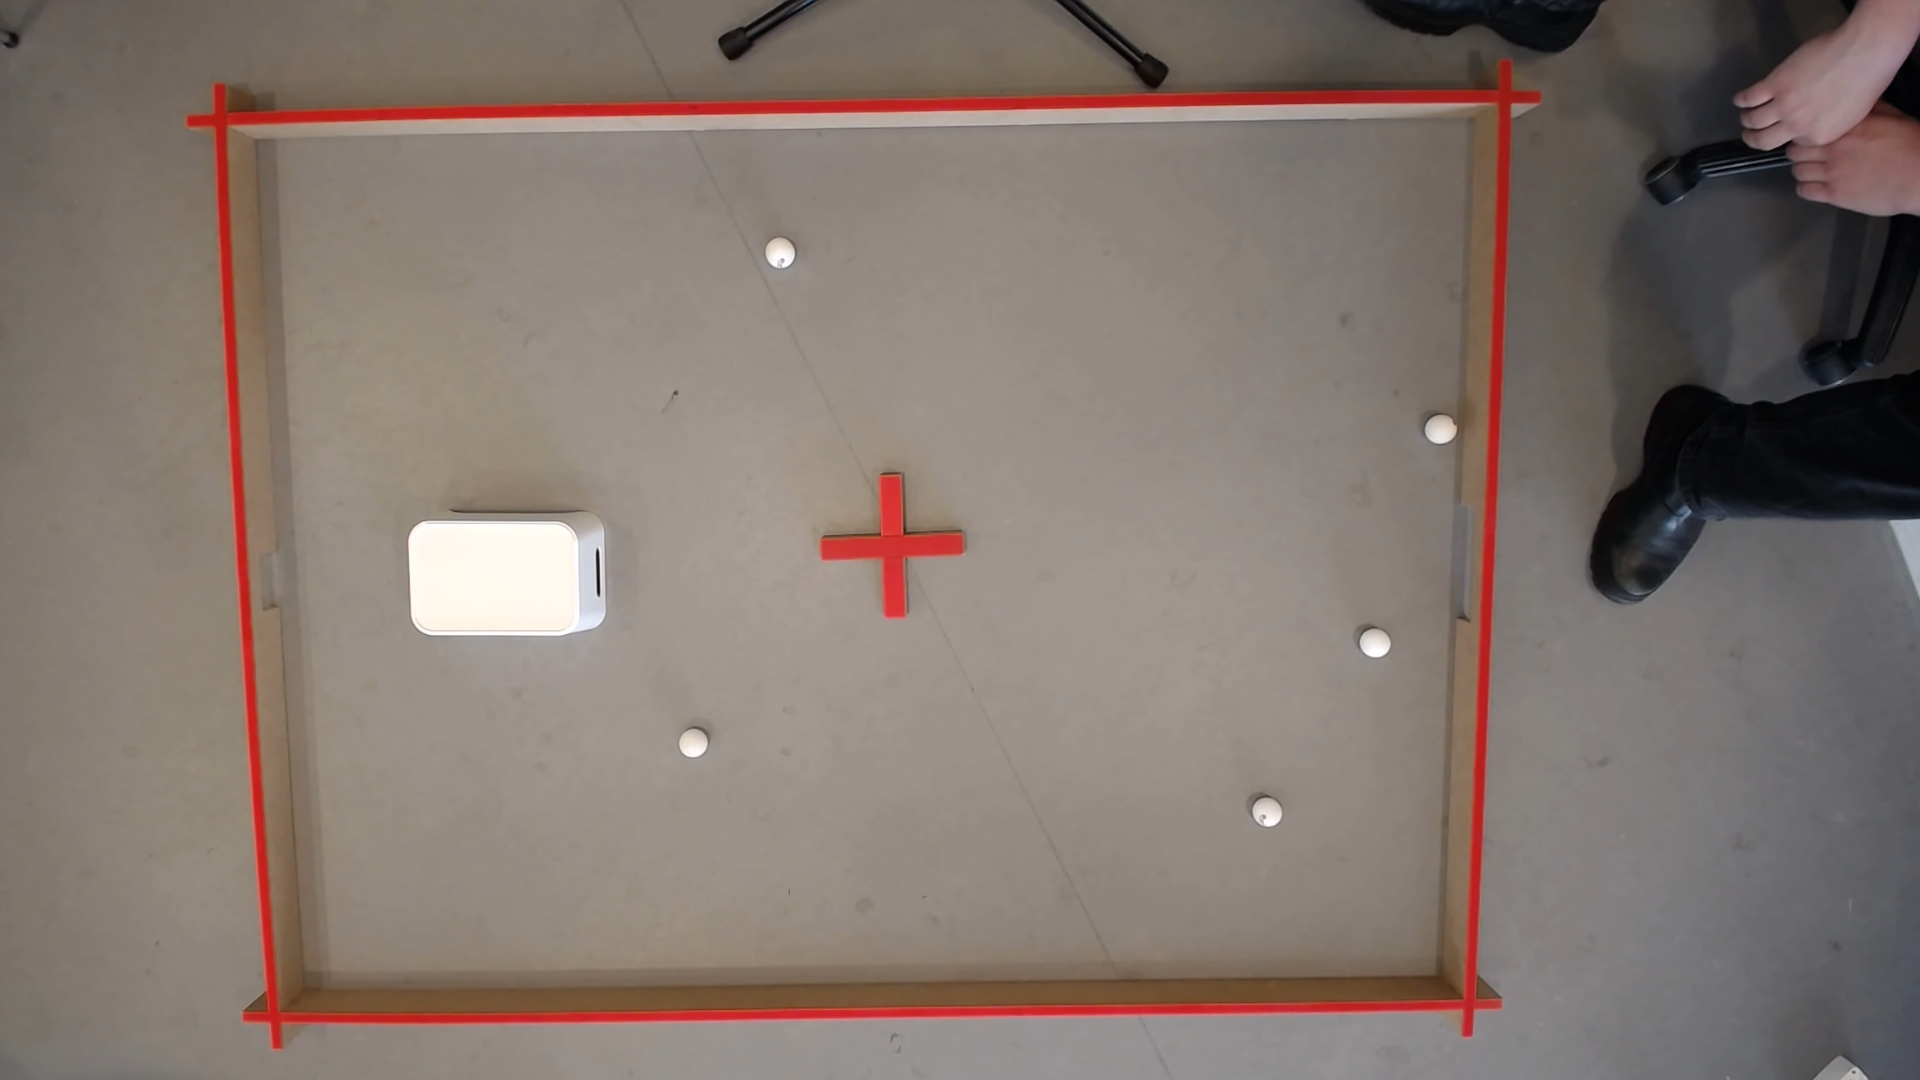balls: (1356, 628, 1391, 661), (762, 239, 796, 272), (1249, 798, 1283, 829), (675, 732, 708, 760), (1428, 422, 1453, 443)
car: (439, 629, 559, 632)
